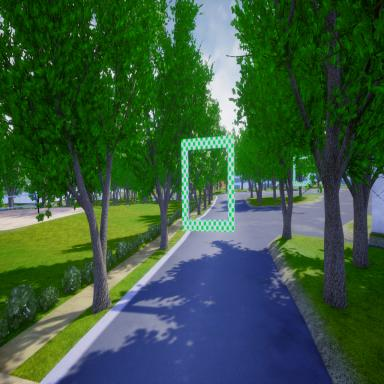gate: (181, 135, 235, 234)
